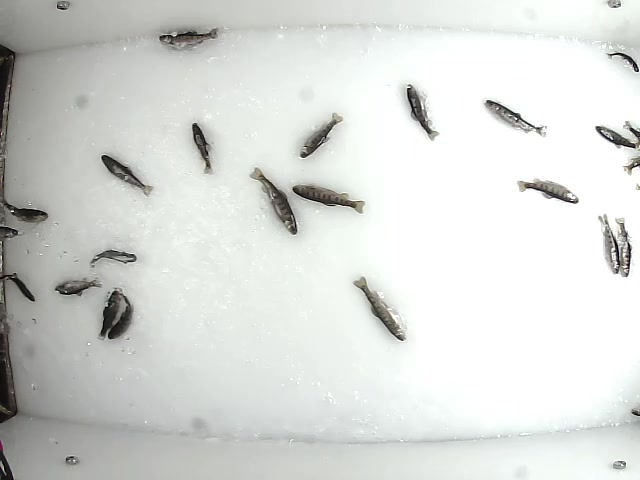fish: (351, 272, 410, 344), (248, 166, 300, 239), (482, 98, 549, 141), (290, 183, 369, 217), (99, 152, 156, 199), (404, 82, 441, 145), (296, 112, 344, 160), (516, 176, 580, 206), (596, 213, 622, 277), (104, 290, 136, 341), (156, 24, 221, 49), (189, 120, 217, 178), (95, 287, 121, 344), (1, 195, 49, 224), (593, 124, 640, 153), (51, 273, 102, 298), (615, 213, 633, 280), (4, 272, 37, 305), (85, 247, 138, 267), (605, 48, 640, 72)
